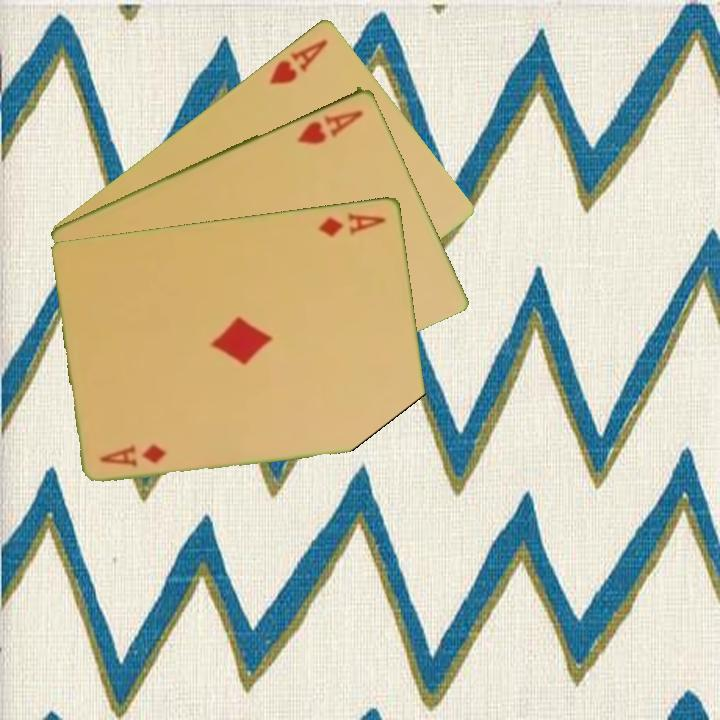Ad: (315, 208, 389, 239), (97, 440, 170, 470)
Ah: (265, 35, 331, 87), (294, 105, 366, 147)
